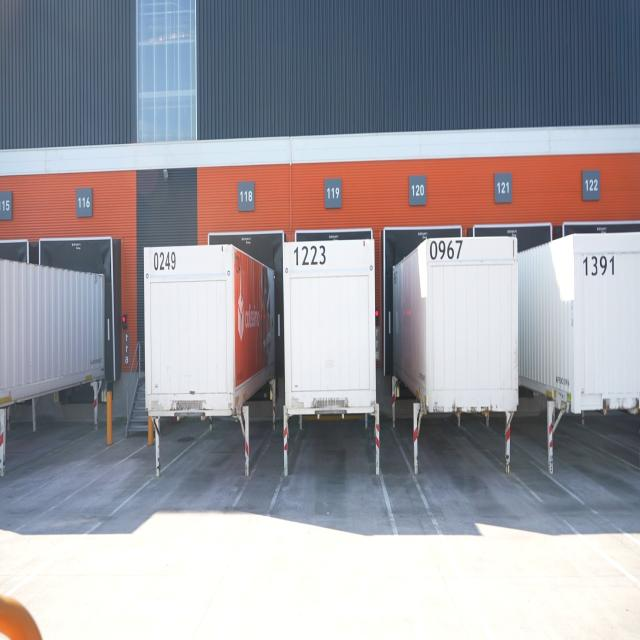Code: (579, 250, 618, 281), (290, 239, 329, 268), (428, 236, 465, 262), (151, 248, 179, 273)
